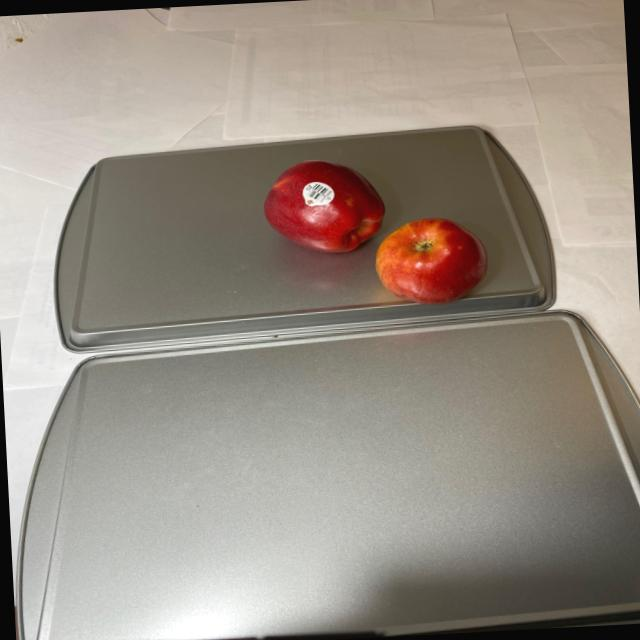apple: (260, 150, 494, 314)
